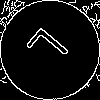L: (25, 25, 78, 76)
